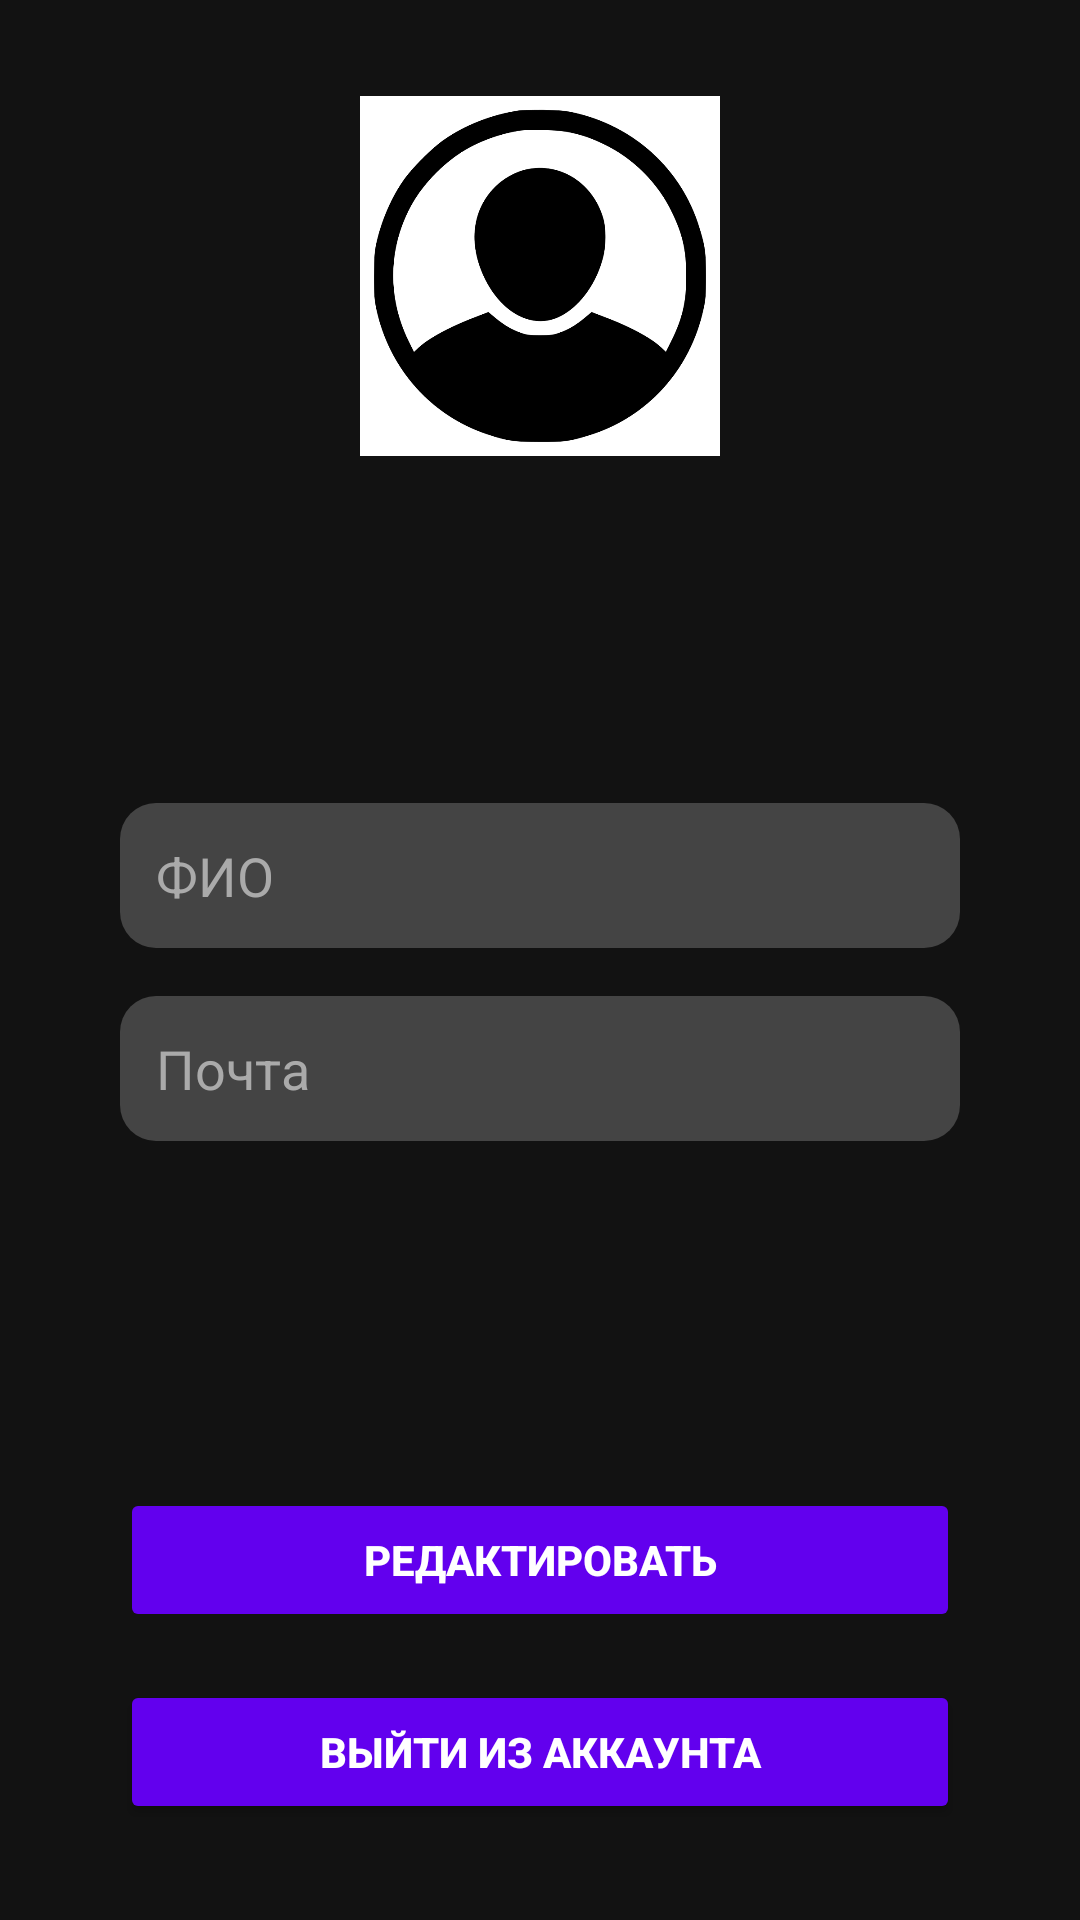

Named icons in this screenshot (1080px×1920px) and their bounding boxes, box=[x1, y1, x2, y2]:
Выбрать фото: box=[360, 96, 720, 456]
